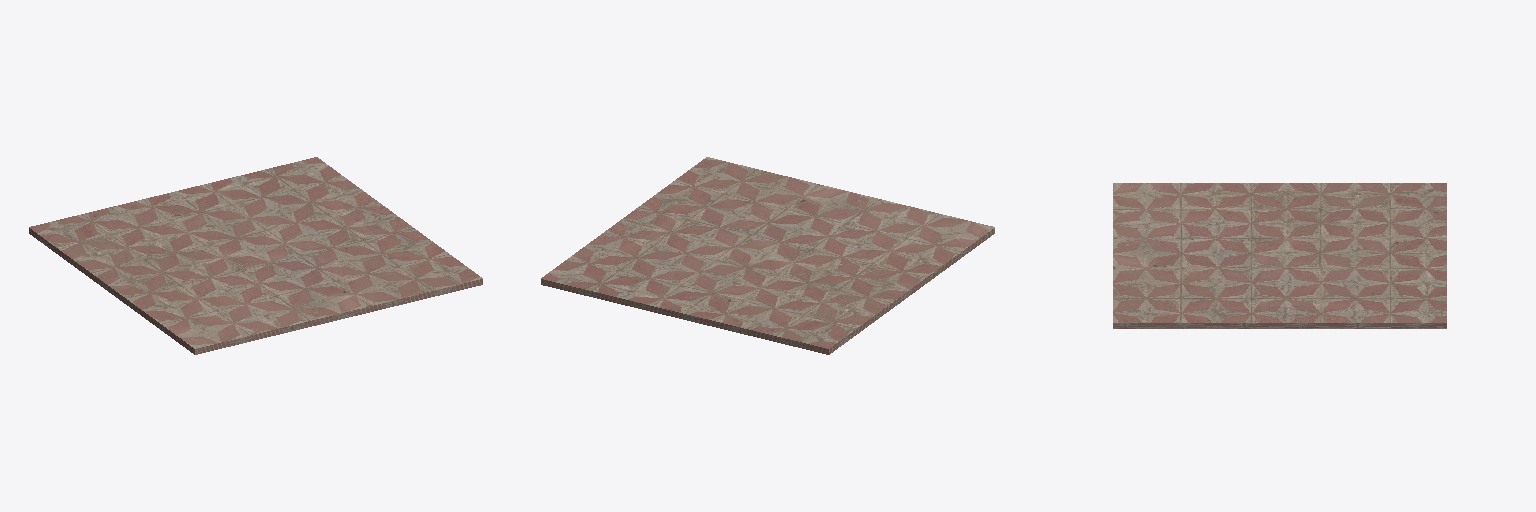
3 renders of one model, left to right at view 1: azimuth 30°, elevation 25°; view 2: azimuth 150°, elevation 25°; view 3: azimuth 270°, elevation 25°, orthographic.
Parts seen in each view (by area): view 1: pisoCasa; view 2: pisoCasa; view 3: pisoCasa.
Boxes of the visible parts, x1=… form: pisoCasa: x1=29, y1=157, x2=482, y2=354; pisoCasa: x1=541, y1=157, x2=994, y2=354; pisoCasa: x1=1113, y1=183, x2=1446, y2=328.
Bounding box in the file's own units: 5 × 0.1 × 5.
Materials: 1 (1 with a texture image).